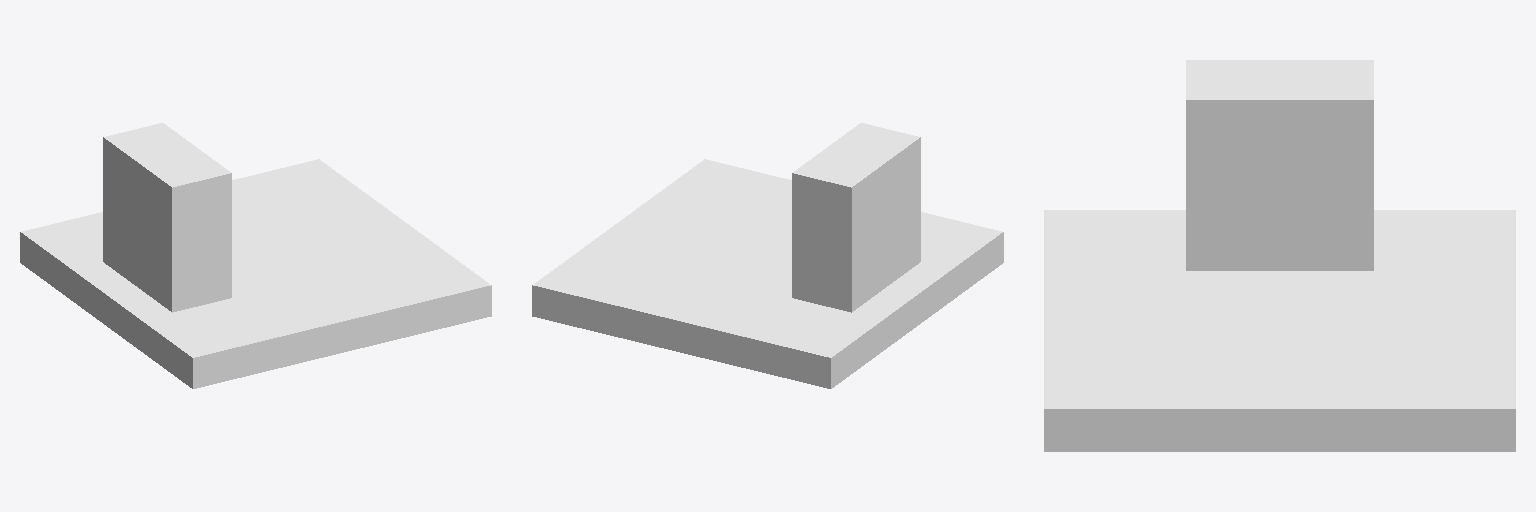
The robot description file, URDF, robot "scene_wall":
<robot name="scene_wall">
  <link name="base_link">
    <visual>
      <origin xyz="0 0 0" rpy="0 0 0" />
      <geometry>
        <mesh filename="package://hpp-rbprm-corba/meshes/ground_table.stl"/>
      </geometry>
      <material name="white">
        <color rgba="1 1 1 1"/>
      </material>
    </visual>
    <collision>
      <origin xyz="0 0 0" rpy="0 0 0" />
      <geometry>
        <mesh filename="package://hpp-rbprm-corba/meshes/ground_table.stl"/>
      </geometry>
    </collision>
  </link>
</robot>

--- Render facts (derived) ---
3 views of the same robot in one strip: view 1: azimuth 30°, elevation 25°; view 2: azimuth 150°, elevation 25°; view 3: azimuth 270°, elevation 25° (orthographic).
Robot: scene_wall — 1 links, 0 joints (none); root link base_link; default pose: all joints at 0.
Visible links, largest first — view 1: base_link; view 2: base_link; view 3: base_link.
Link boxes in pixels (x1,y1,x2,y2): base_link: [20, 123, 491, 388]; base_link: [532, 123, 1003, 388]; base_link: [1044, 60, 1515, 451].
Size in the robot's own frame: 5 by 5 by 2.5 metres.
Meshes: 1 distinct files referenced, 1 mesh visuals loaded (1 binary STL).